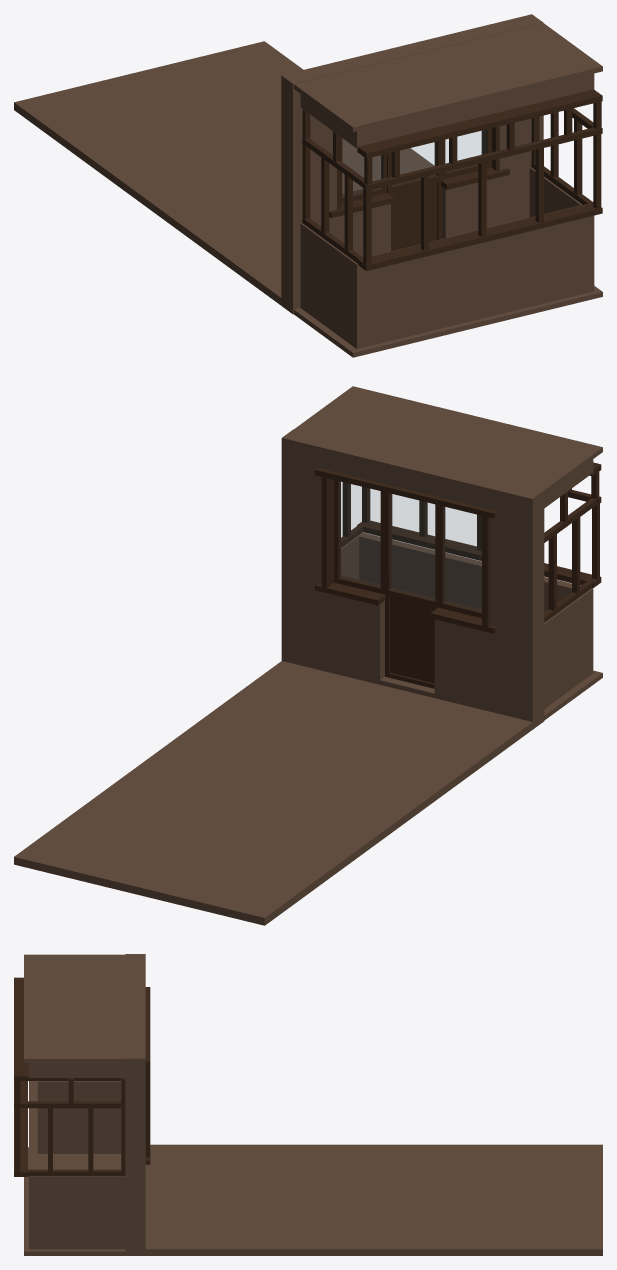
Rendered from Middle_floor_Balcony_type2.FBX.
3 renders of one model, top to bottom at view 1: azimuth 30°, elevation 25°; view 2: azimuth 150°, elevation 25°; view 3: azimuth 270°, elevation 25°, orthographic. The views are drawn at different scales.
Parts seen in each view (by area): view 1: Hub_3_balcony_023, Balcony_door_006; view 2: Hub_3_balcony_023, Balcony_door_006; view 3: Hub_3_balcony_023.
Boxes of the visible parts, bbox=[...] form: Hub_3_balcony_023: bbox=[14, 14, 602, 357]; Balcony_door_006: bbox=[387, 140, 442, 251]; Hub_3_balcony_023: bbox=[14, 386, 602, 925]; Balcony_door_006: bbox=[384, 492, 439, 688]; Hub_3_balcony_023: bbox=[14, 954, 602, 1255].
Size of the model in its own units: 319 by 758 by 280.
